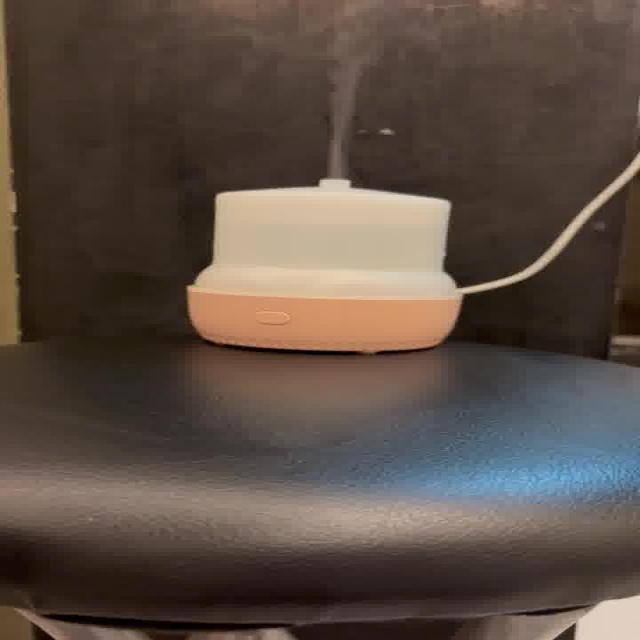fire: (314, 15, 371, 176)
